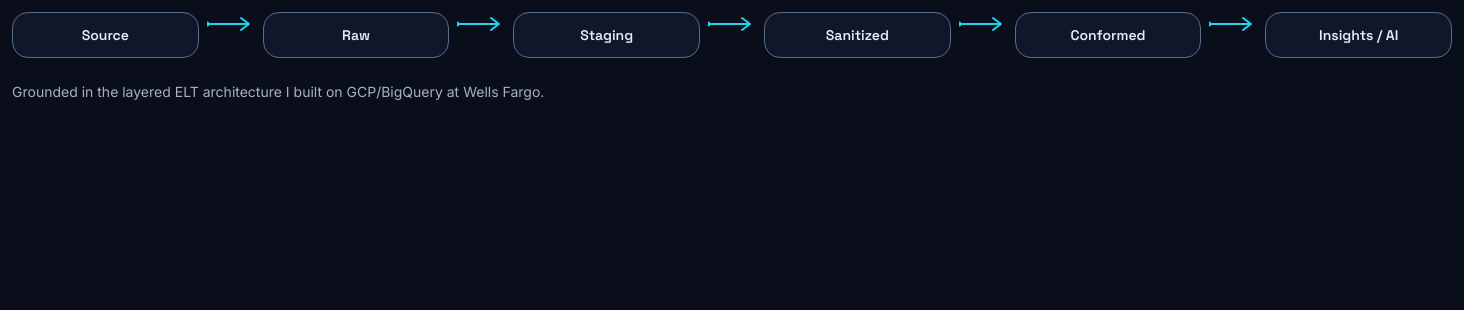
Test case: PipelineDiagram › reveals the stage explanation verbatim when expanded (Req 11.3)
This screenshot has width=1464, height=310.
Click the button "Staging" at (607, 35), box [513,12,700,58]
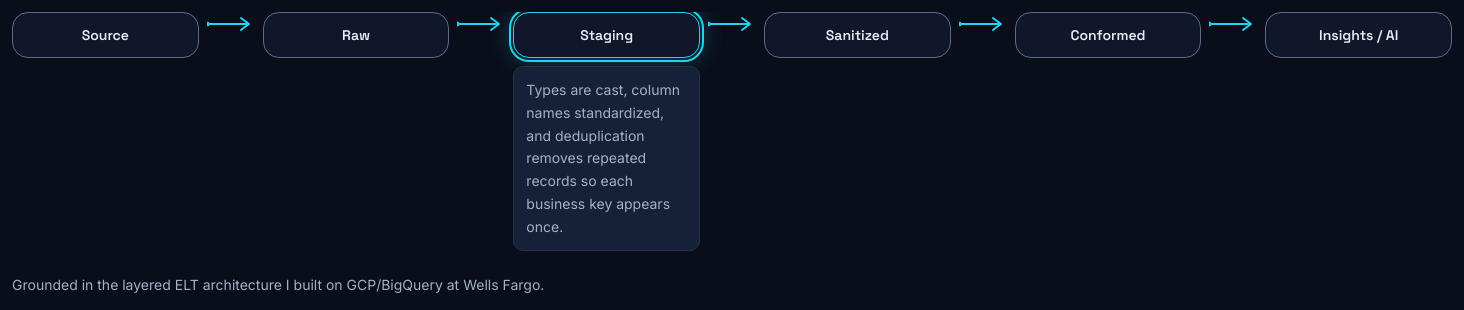
Expected: the text "Types are cast, column names standardized, and deduplication removes repeated records so each business key appears once." is shown, [526,81,680,234]
